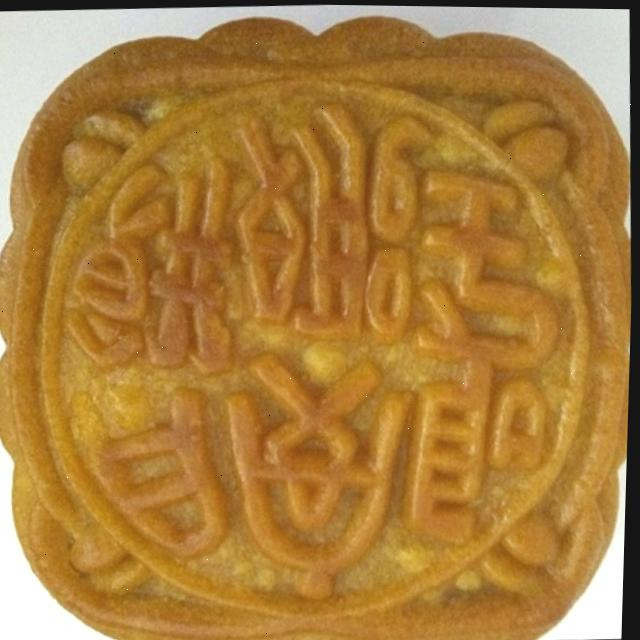蛋糕甜品: (0, 25, 639, 640)
